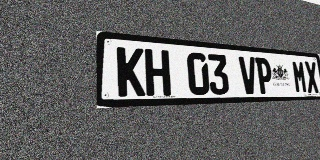0: (187, 52, 210, 95)
3: (208, 54, 229, 95)
H: (145, 49, 171, 96)
K: (117, 47, 145, 97)
M: (292, 60, 308, 93)
P: (255, 57, 274, 94)
V: (238, 56, 258, 94)
X: (304, 61, 319, 93)
